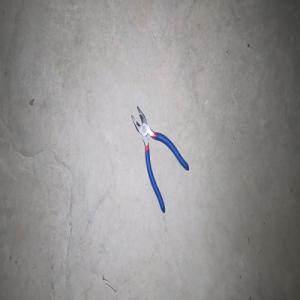Pliers: (131, 105, 189, 213)
